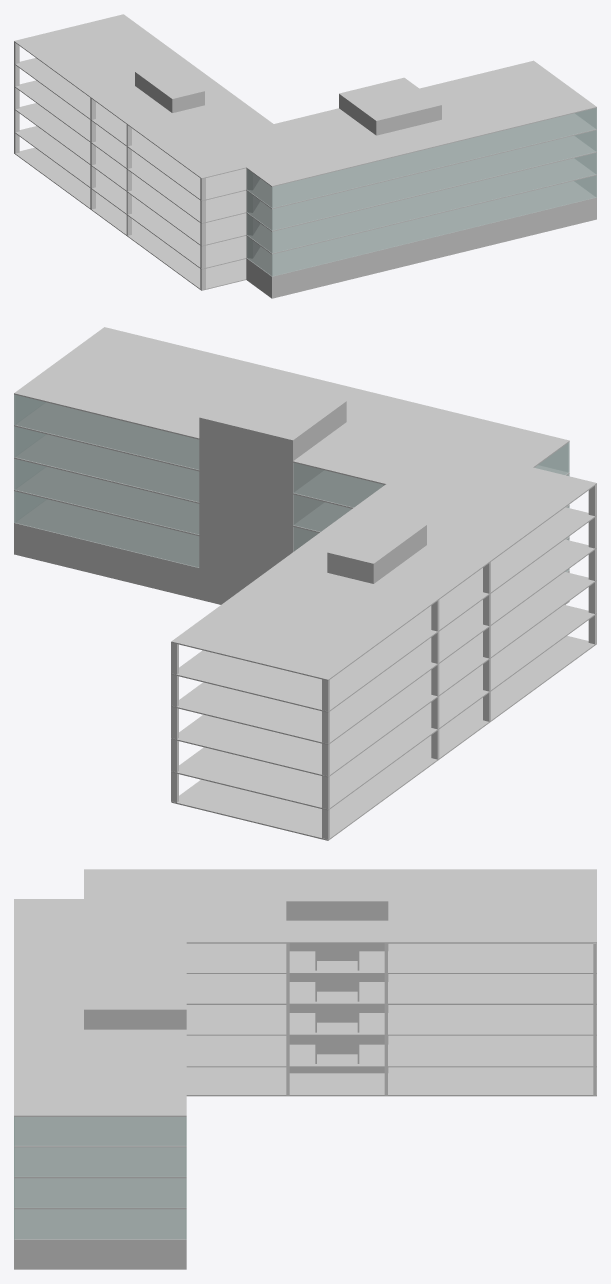
File: Building_opt.fbx
3 renders of one model, top to bottom at view 1: azimuth 30°, elevation 25°; view 2: azimuth 150°, elevation 25°; view 3: azimuth 270°, elevation 25°, orthographic. The views are drawn at different scales.
Parts seen in each view (by area): view 1: pCube15, pCube32, pCube40; view 2: pCube15, pCube32, pCube40; view 3: pCube15, pCube32, pCube40.
Boxes of the visible parts, x1=… form: pCube15: x1=14, y1=14, x2=596, y2=298; pCube32: x1=246, y1=108, x2=596, y2=276; pCube40: x1=14, y1=42, x2=205, y2=289; pCube15: x1=14, y1=327, x2=596, y2=840; pCube32: x1=14, y1=394, x2=569, y2=571; pCube40: x1=171, y1=484, x2=596, y2=839; pCube15: x1=14, y1=869, x2=596, y2=1269; pCube32: x1=14, y1=1117, x2=186, y2=1239; pCube40: x1=286, y1=943, x2=596, y2=1095.
Bounding box in the file's own units: 682 × 224 × 682.
